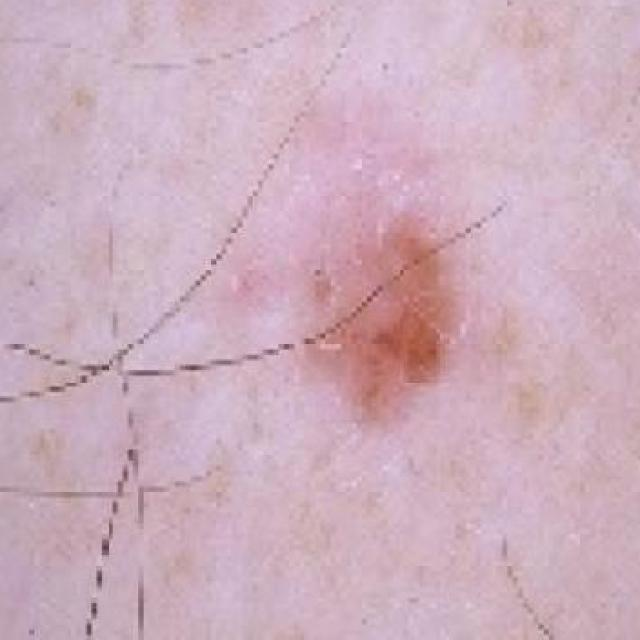BCC: (229, 44, 624, 533)
